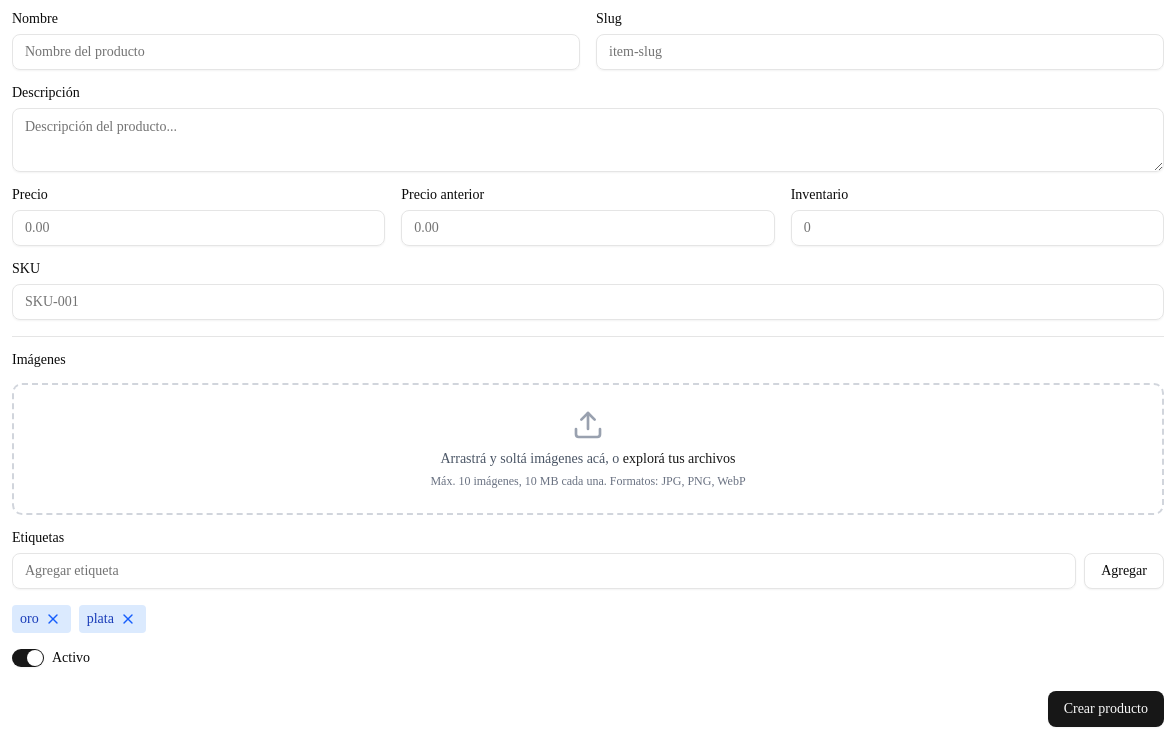
Test: ItemForm: fields › removes a tag
Click the button named "Quitar oro" at (53, 619), box [43,609,63,629]
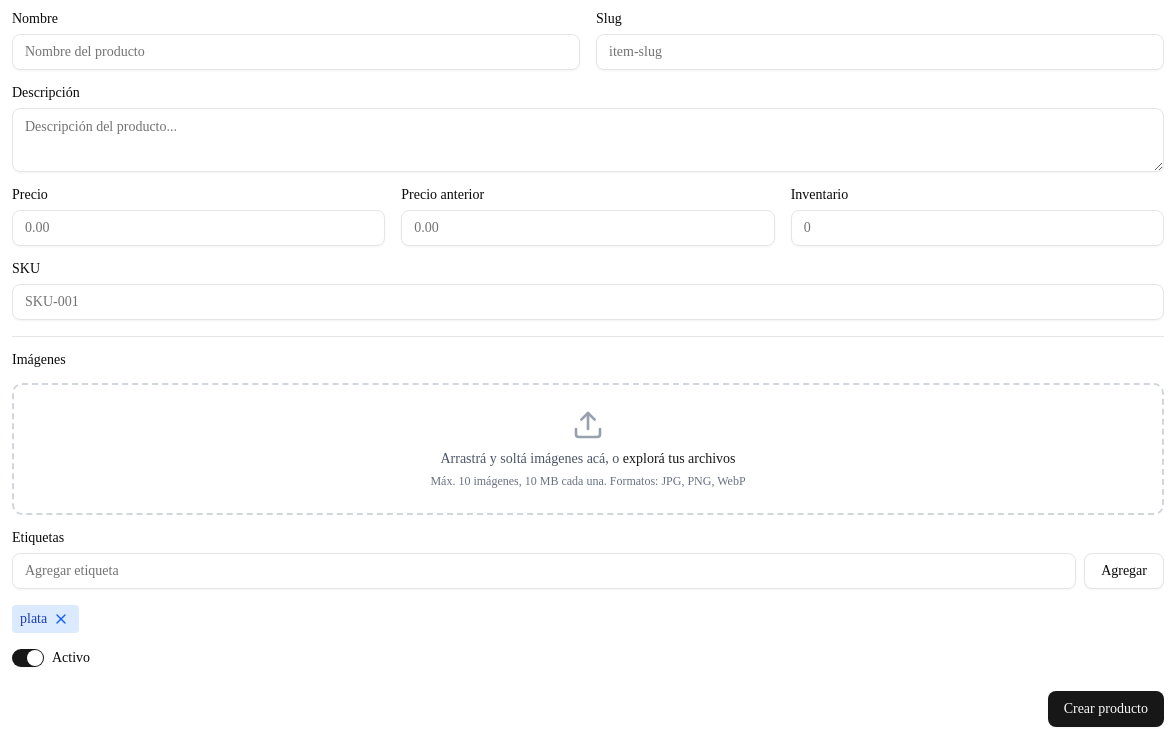
Expected: the text "plata" is shown, [20,609,47,629]
Now the text "oro" is gone
